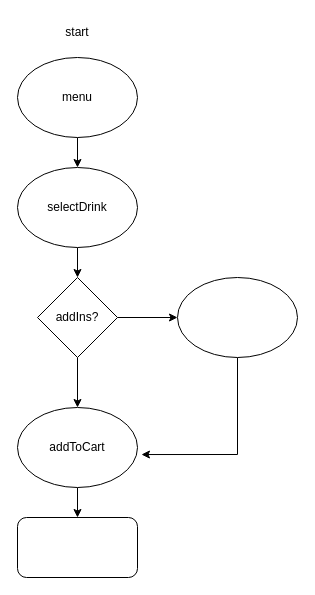
The diagram is 315 pixels wide and 595 high, and some of its shapes have lost their labels. Each missing label, with the box of its shape:
selectAddins: (176, 276, 298, 358)
sendToCart: (16, 516, 138, 578)
